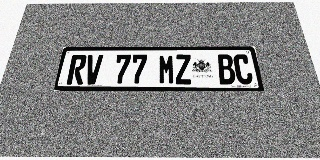7: (113, 55, 131, 84), (130, 55, 147, 84)
B: (216, 54, 237, 84)
C: (233, 54, 254, 84)
M: (158, 54, 175, 84)
R: (66, 55, 87, 84)
V: (83, 55, 103, 84)
Z: (175, 54, 192, 84)
